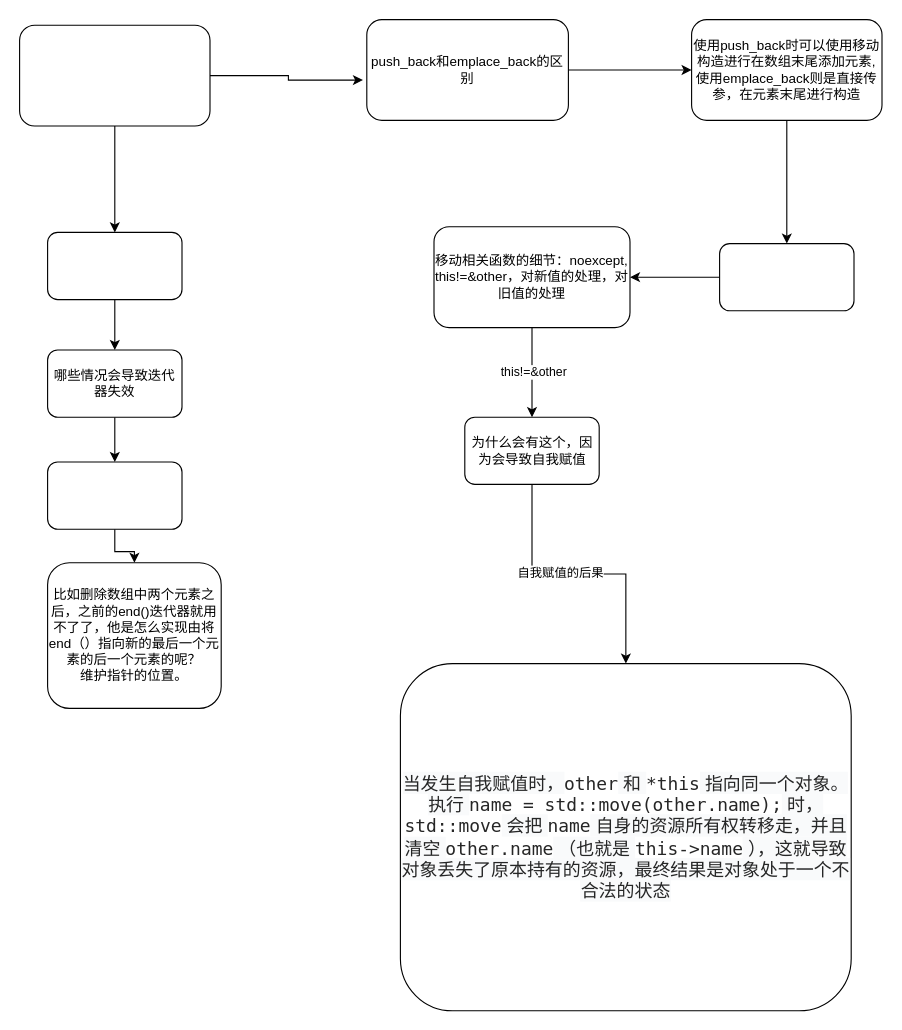
The diagram is 902 pixels wide and 1030 high, and some of its shapes have lost their labels. The shapes that lost their labels are listed below. From the top down, each one's box as (x1, y1, x2, y2) in pixels, then its label:
(18, 24, 210, 126): 容器
(46, 231, 182, 300): 迭代器
(718, 242, 854, 311): 移动构造和移动赋值运算符的重载
(46, 461, 182, 529): 元素个数改变会导致迭代器失效
